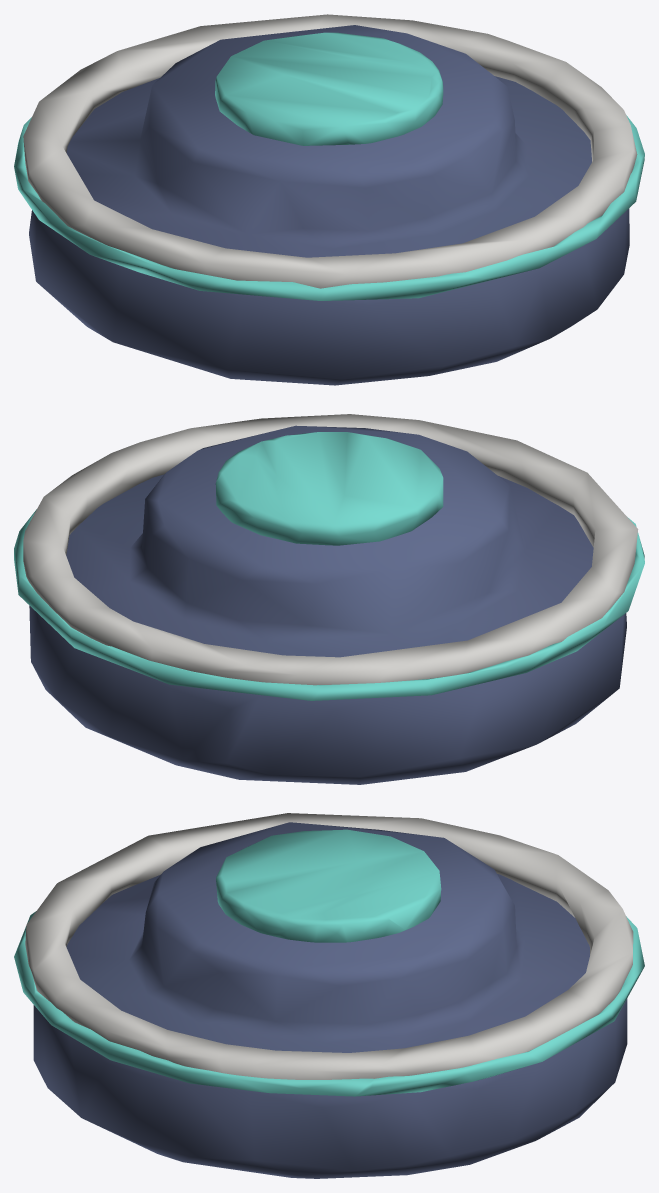
Rendered from projector.glb.
The picture shows the model from 3 angles, top to bottom: view 1: azimuth 30°, elevation 25°; view 2: azimuth 150°, elevation 25°; view 3: azimuth 270°, elevation 25°; orthographic projection.
Visible parts, largest first — view 1: projector, projector_glow; view 2: projector, projector_glow; view 3: projector, projector_glow.
Part boxes in pixels (bbox=[...]): projector: bbox=[23, 14, 637, 385]; projector_glow: bbox=[14, 32, 644, 300]; projector: bbox=[23, 414, 638, 784]; projector_glow: bbox=[14, 432, 644, 700]; projector: bbox=[25, 813, 633, 1178]; projector_glow: bbox=[14, 829, 644, 1096].
Size of the model in its own units: 0.8864 by 0.2907 by 0.89.
